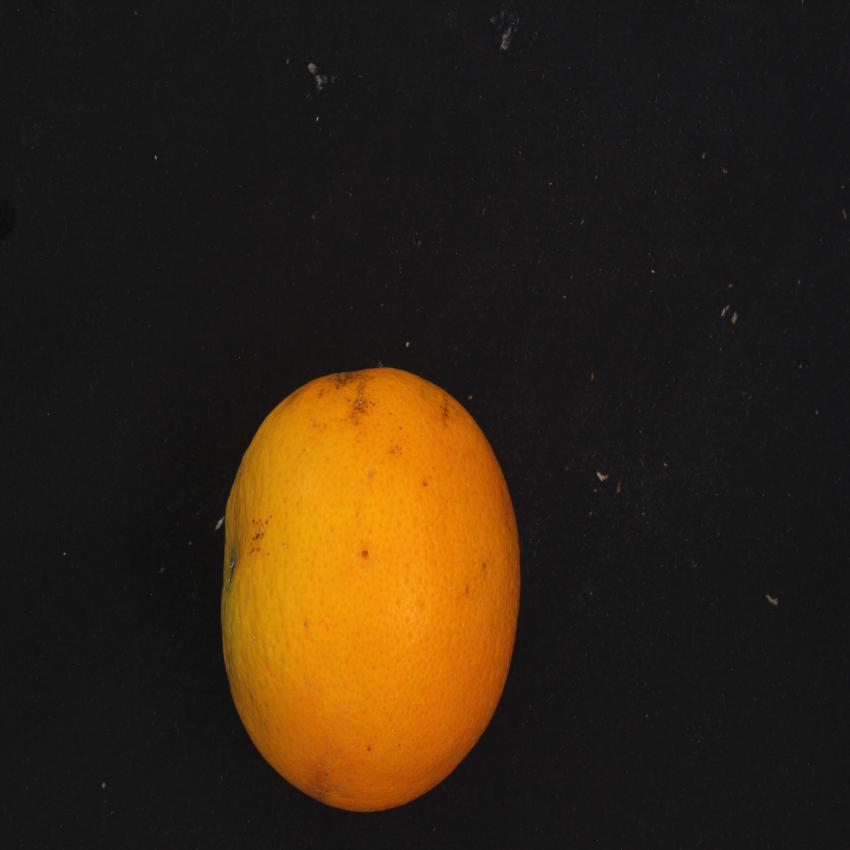Buen estado: (211, 350, 549, 824)
